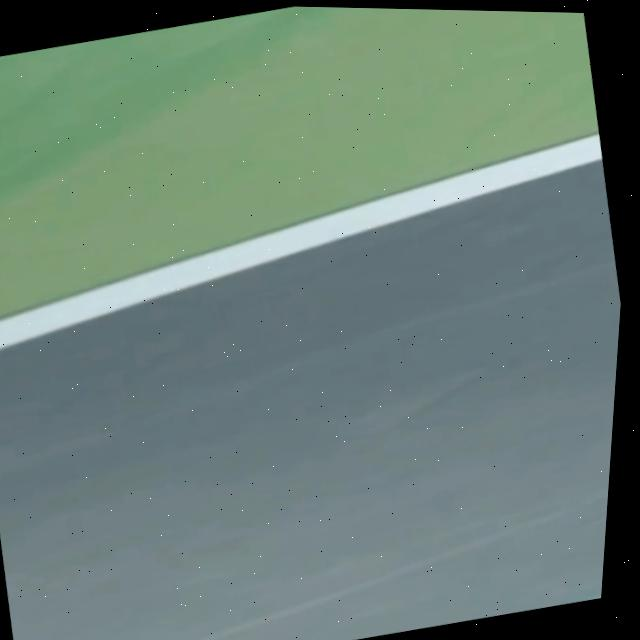right: (0, 133, 602, 349)
